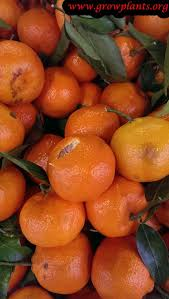orange: (90, 230, 161, 299), (45, 134, 115, 200), (110, 113, 168, 186), (89, 172, 148, 241), (18, 190, 86, 248), (32, 236, 93, 292), (1, 36, 45, 104), (64, 100, 123, 150), (36, 62, 83, 120)
